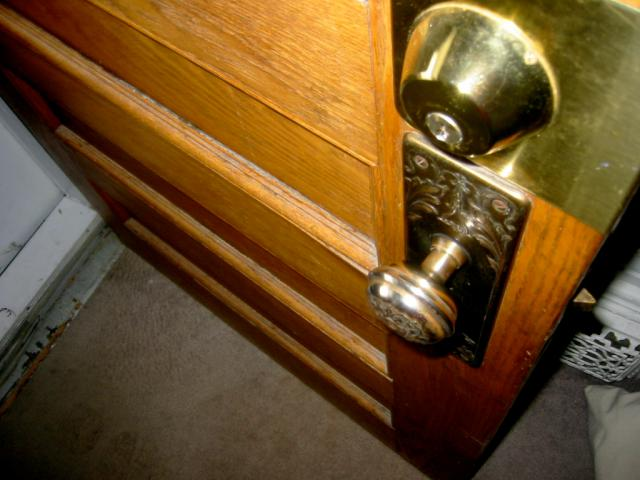Door-handle: (361, 132, 532, 371)
